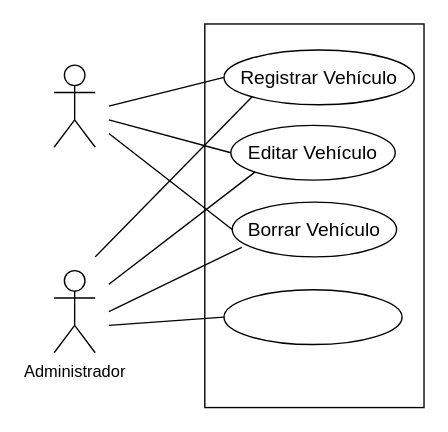
Image size: 448x432. Some labels were removed from this diagram. The centre of each missing label's shape, as x and y in pixels:
"Conserje" goes at pixel 74 105.
"Obtener Registros" goes at pixel 312 316.
